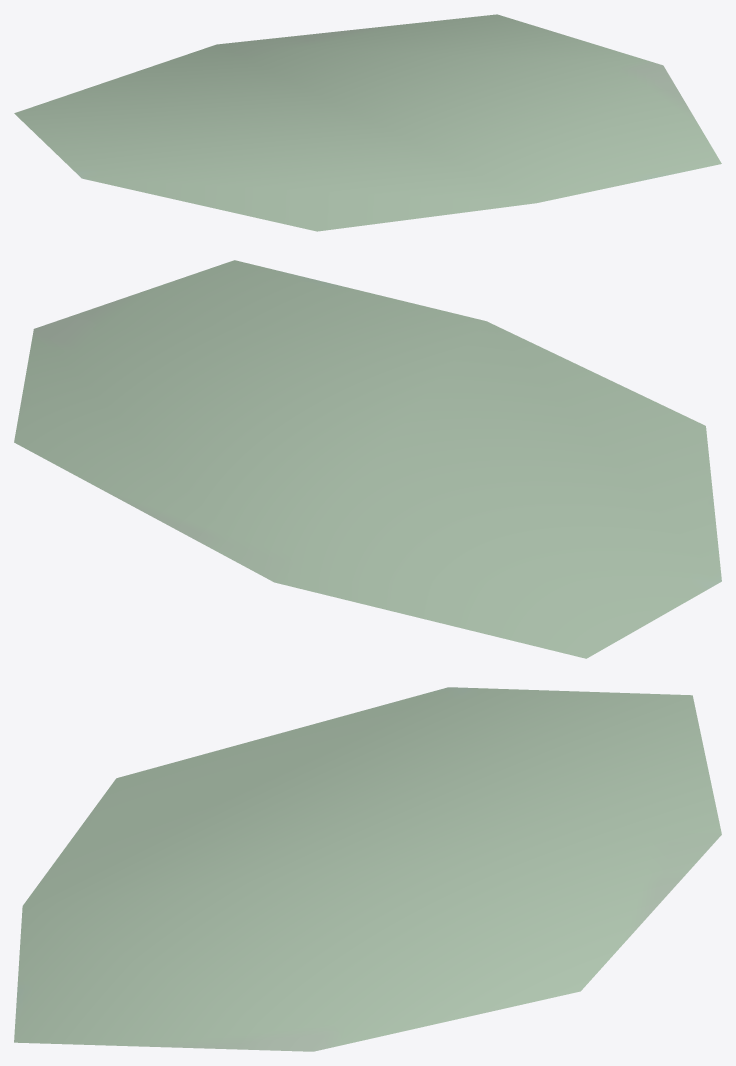
Rendered from TROLLHOLE02_HOLECAP11.fbx.
3 views of the same model, one above another, from view 1: azimuth 30°, elevation 25°; view 2: azimuth 150°, elevation 25°; view 3: azimuth 270°, elevation 25° (orthographic). The views are drawn at different scales.
Parts seen in each view (by area): view 1: TROLLHOLE02_HOLECAP11; view 2: TROLLHOLE02_HOLECAP11; view 3: TROLLHOLE02_HOLECAP11.
Part boxes in pixels (x1,y1,x2,y2): TROLLHOLE02_HOLECAP11: (14, 14, 721, 231); TROLLHOLE02_HOLECAP11: (14, 260, 721, 658); TROLLHOLE02_HOLECAP11: (14, 687, 721, 1051).
Bounding box in the file's own units: 34605 × 1270 × 26678.
1 material, 1 textured.
